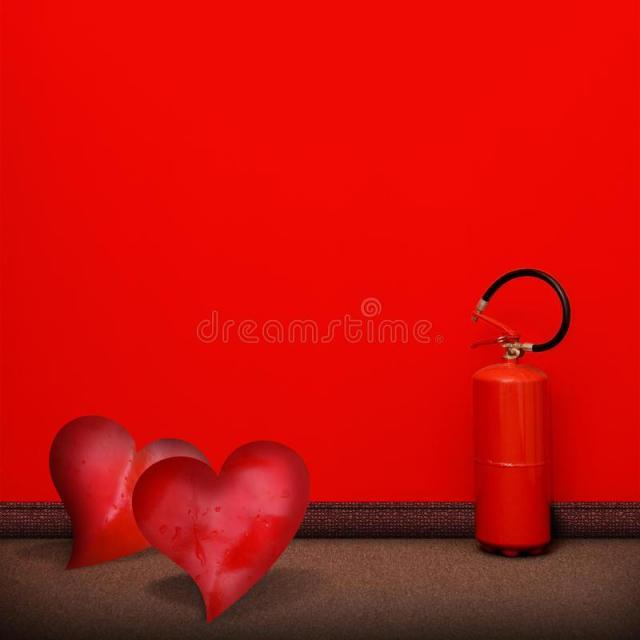fire_extinguisher: (458, 262, 582, 564)
